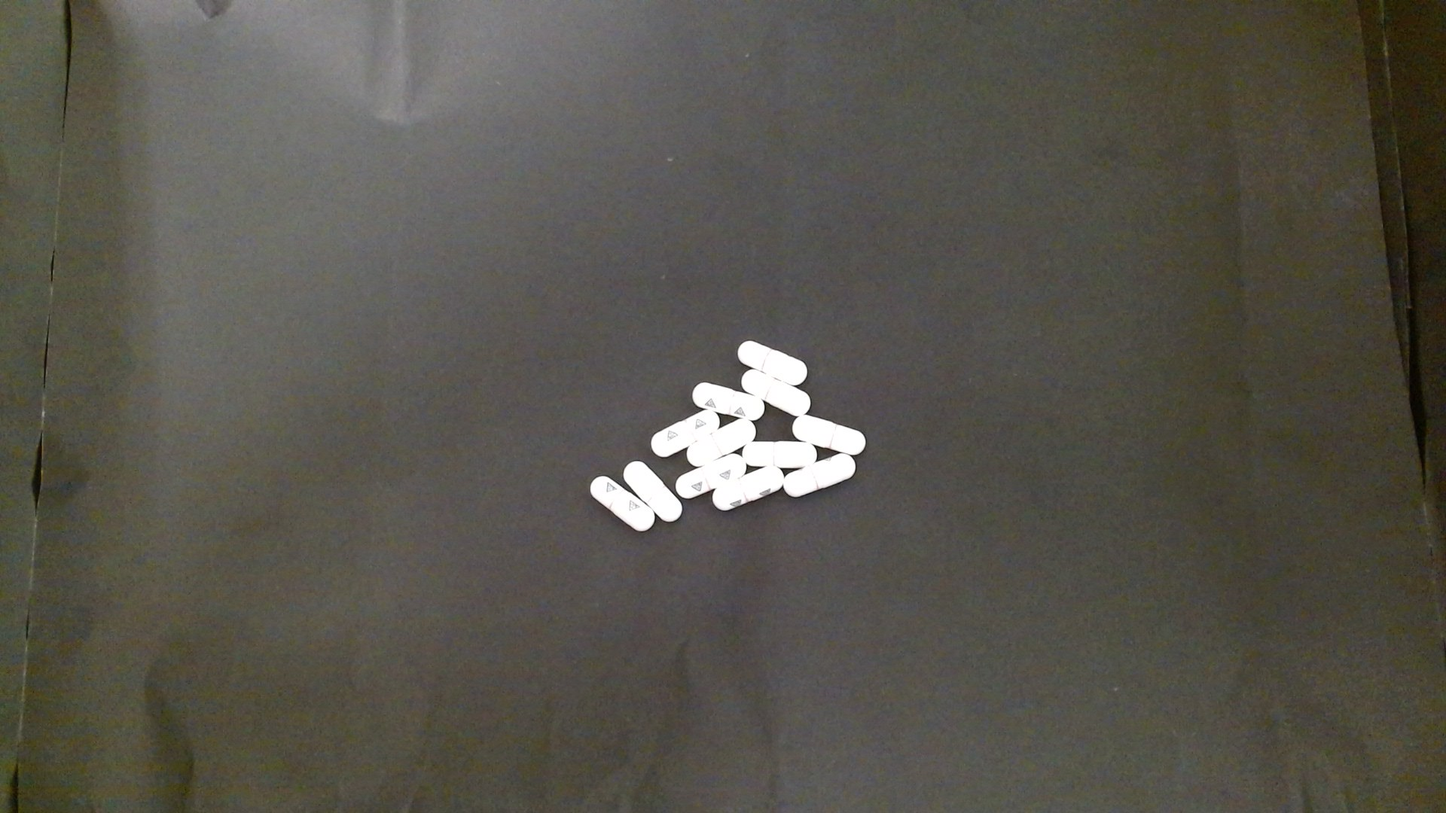Capsule: (590, 473, 657, 532), (649, 407, 723, 460), (673, 452, 748, 501), (622, 460, 681, 522), (780, 452, 854, 499), (685, 416, 755, 465), (712, 464, 783, 511), (692, 382, 767, 425), (737, 340, 807, 385), (791, 414, 866, 455), (741, 368, 807, 413), (740, 440, 815, 471)
